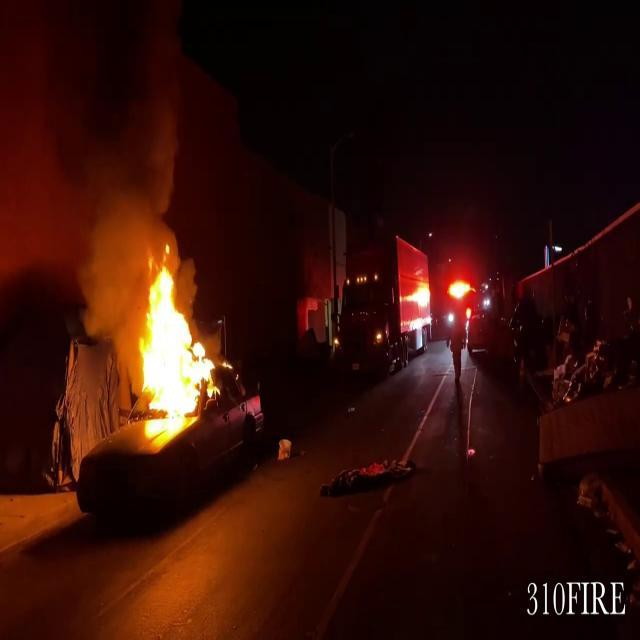Fire: (130, 253, 222, 430)
Smoke: (0, 2, 190, 298)
